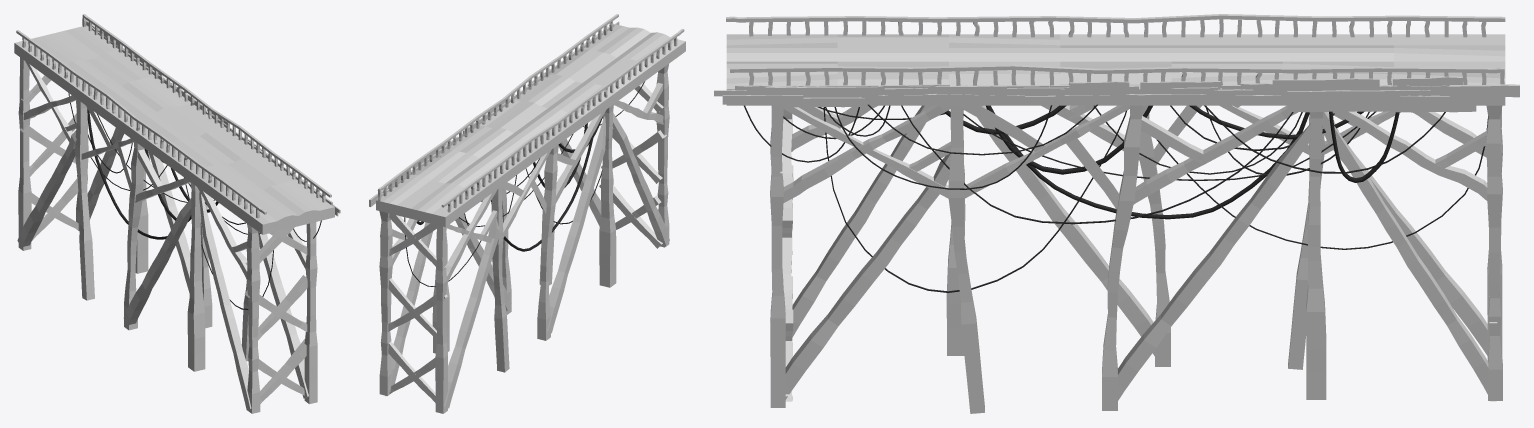
The model's file is bridge_12k_faces.fbx.
The picture shows the model from 3 angles, left to right: view 1: azimuth 30°, elevation 25°; view 2: azimuth 150°, elevation 25°; view 3: azimuth 270°, elevation 25°; orthographic projection. The views are drawn at different scales.
Visible parts, largest first — view 1: Cube.016; view 2: Cube.016; view 3: Cube.016.
Boxes of the visible parts, box(x1,y1,x2,y2) form: Cube.016: box(14, 14, 340, 413); Cube.016: box(369, 14, 685, 413); Cube.016: box(714, 14, 1519, 413).
Bounding box in the file's own units: 99.22 × 281 × 588.
